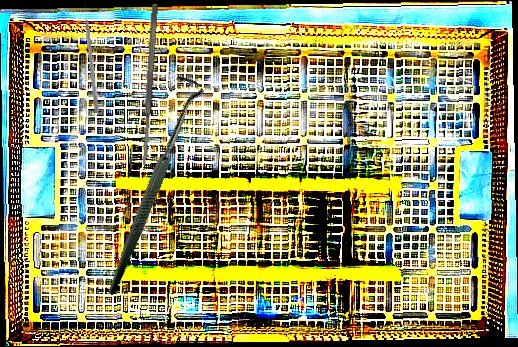Hook Surgical: (31, 69, 267, 296)
Pusher: (82, 2, 101, 114)
Spatula Surgical: (139, 3, 160, 167)
